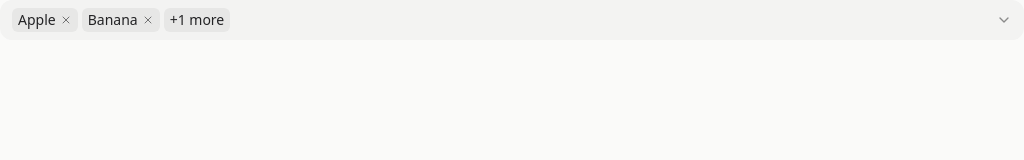
Scenario: Multi-select › clicking "+N more" expands the chip list without touching the selection
Click the button "+1 more" at (197, 20), box [164,8,230,32]
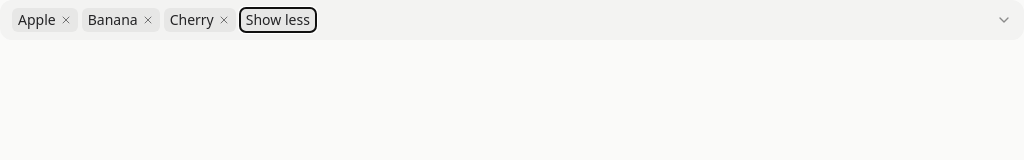
Result: the button named "Remove Cherry" is shown at [218,14,230,26]
# The toggle collapses the list again.
Click the button "Show less" at (278, 20), box [240,8,316,32]
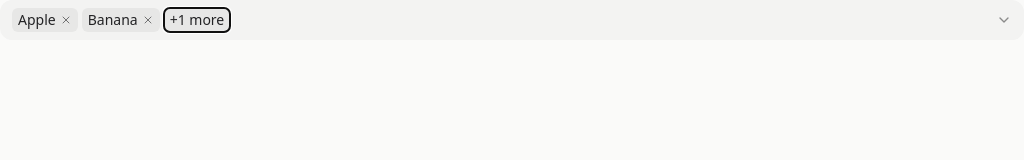
Result: the button "+1 more" is shown at [164,8,230,32]
